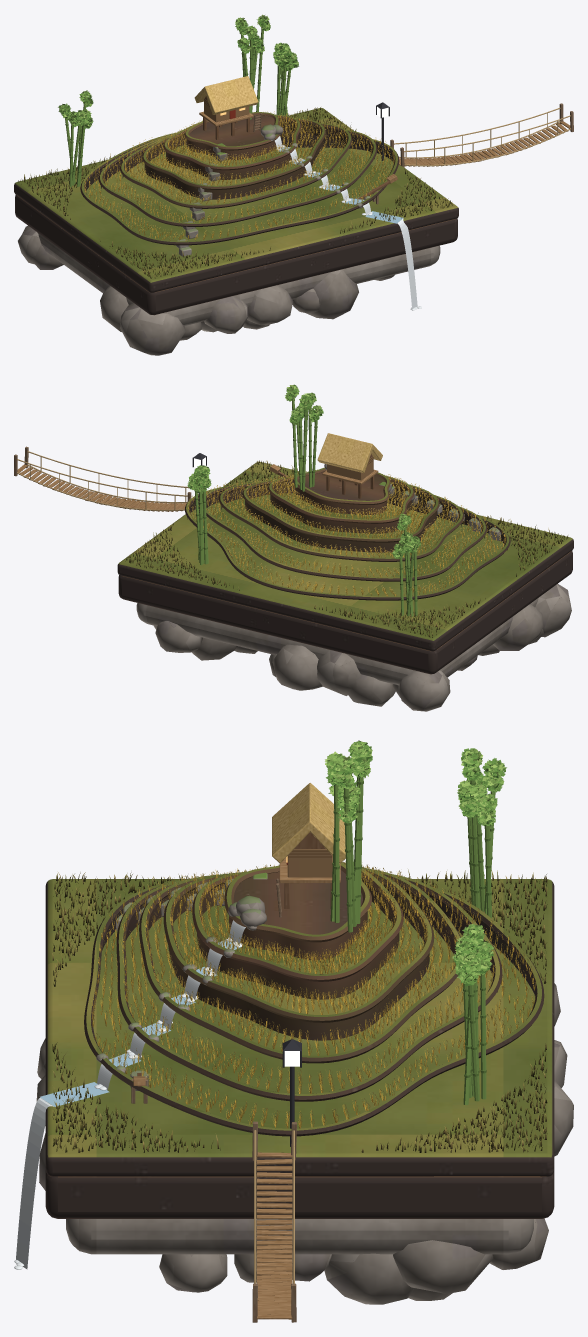
File: unlock-terraces-thu.glb
3 views of the same model, one above another, from view 1: azimuth 30°, elevation 25°; view 2: azimuth 150°, elevation 25°; view 3: azimuth 270°, elevation 25° (orthographic). The views are drawn at different scales.
Visible parts, largest first — view 1: unlock-terraces-static, grass-left, fall-edge, water-surface-terraces; view 2: unlock-terraces-static, grass-left; view 3: unlock-terraces-static, grass-left, fall-edge, water-surface-terraces.
Boxes of the visible parts, x1,y1,x2,y2 form: unlock-terraces-static: [14, 14, 573, 355]; grass-left: [18, 107, 452, 278]; fall-edge: [397, 218, 417, 310]; water-surface-terraces: [278, 146, 403, 223]; unlock-terraces-static: [14, 384, 573, 711]; grass-left: [125, 460, 567, 637]; unlock-terraces-static: [14, 740, 573, 1322]; grass-left: [51, 869, 547, 1152]; fall-edge: [16, 1097, 53, 1269]; water-surface-terraces: [40, 940, 240, 1106].
Bounding box in the file's own units: 10.3 × 5.38 × 5.5.
41 materials, 21 textured.
